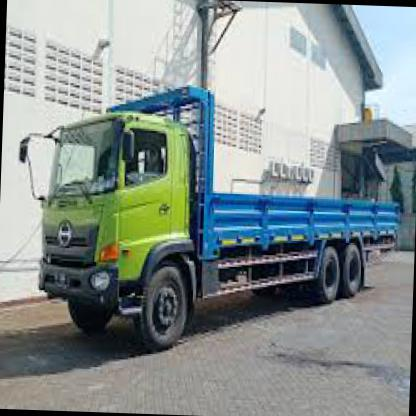truck: (33, 108, 202, 356)
